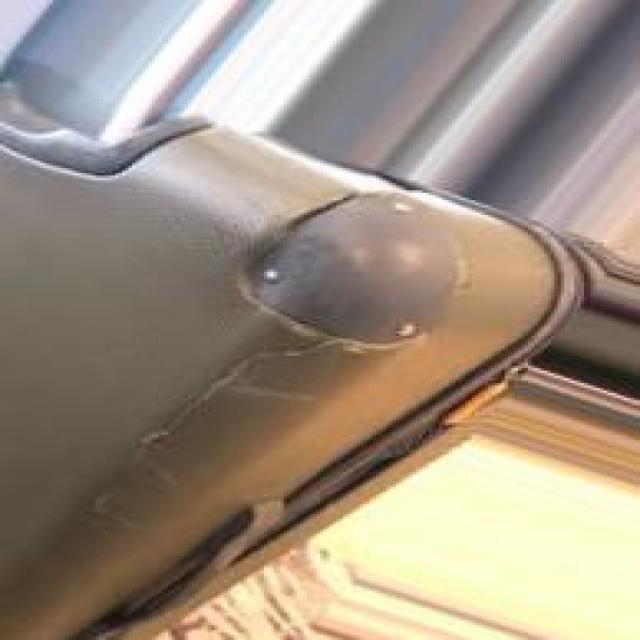Damage-bag: (134, 269, 340, 467), (249, 196, 352, 264), (84, 490, 111, 514)
